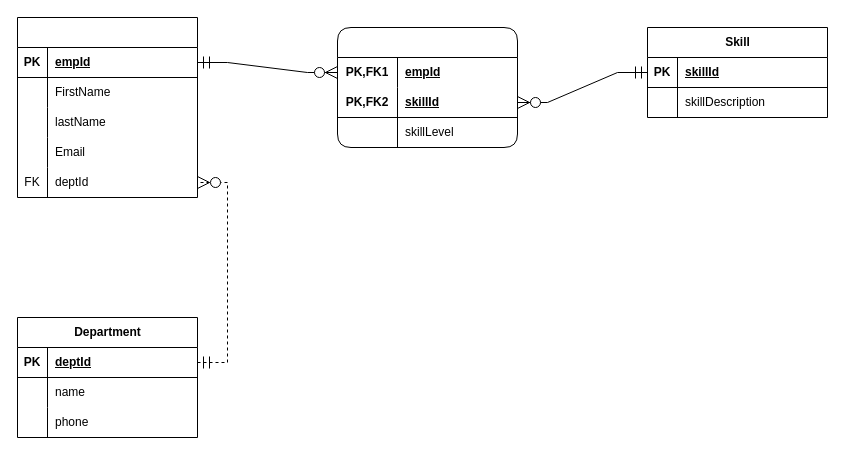
This 845x455 diagram has some shape labels left out. The box of each missing label's shape, as (x1, y1, x2, y2) in pixels:
Employee: (16, 16, 198, 198)
EmployeeSkill: (336, 26, 518, 148)
